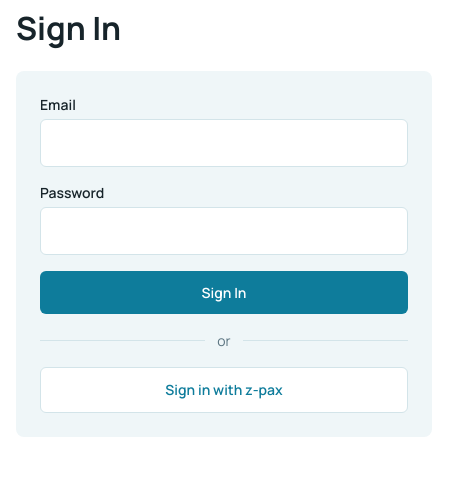
Test: Login › shows the rate-limit message on a 429
In the field labelled "Email": (224, 143) left=40, top=119, right=408, bottom=167, type "john@example.com"
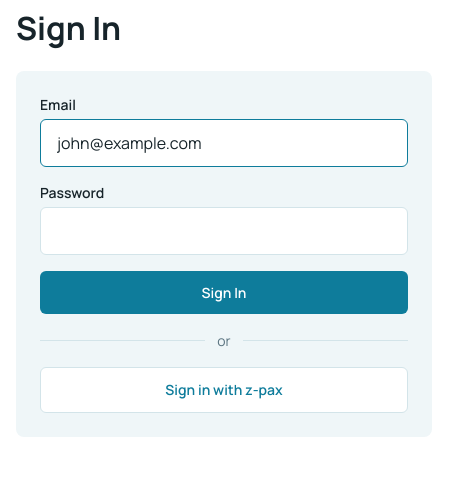
In the password field labelled "Password": (224, 231) left=40, top=207, right=408, bottom=255, type "correct-horse-battery-staple"
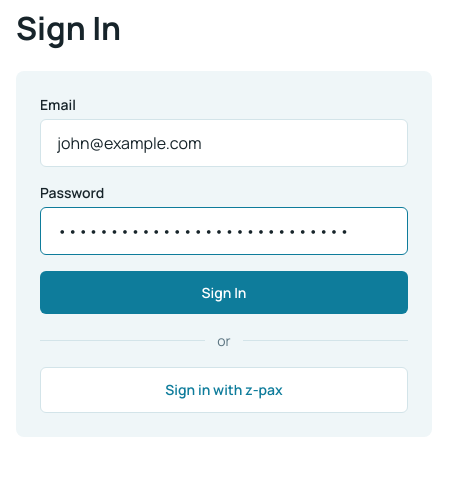
Click the button "Sign In": (224, 292) left=40, top=271, right=408, bottom=314
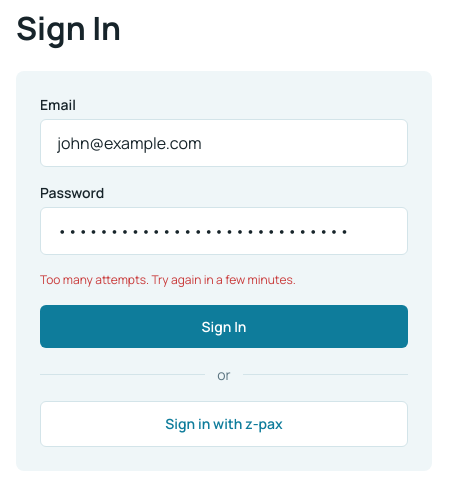
Check: the text "Too many attempts. Try again in a few minutes." is shown, box left=40, top=271, right=296, bottom=288
